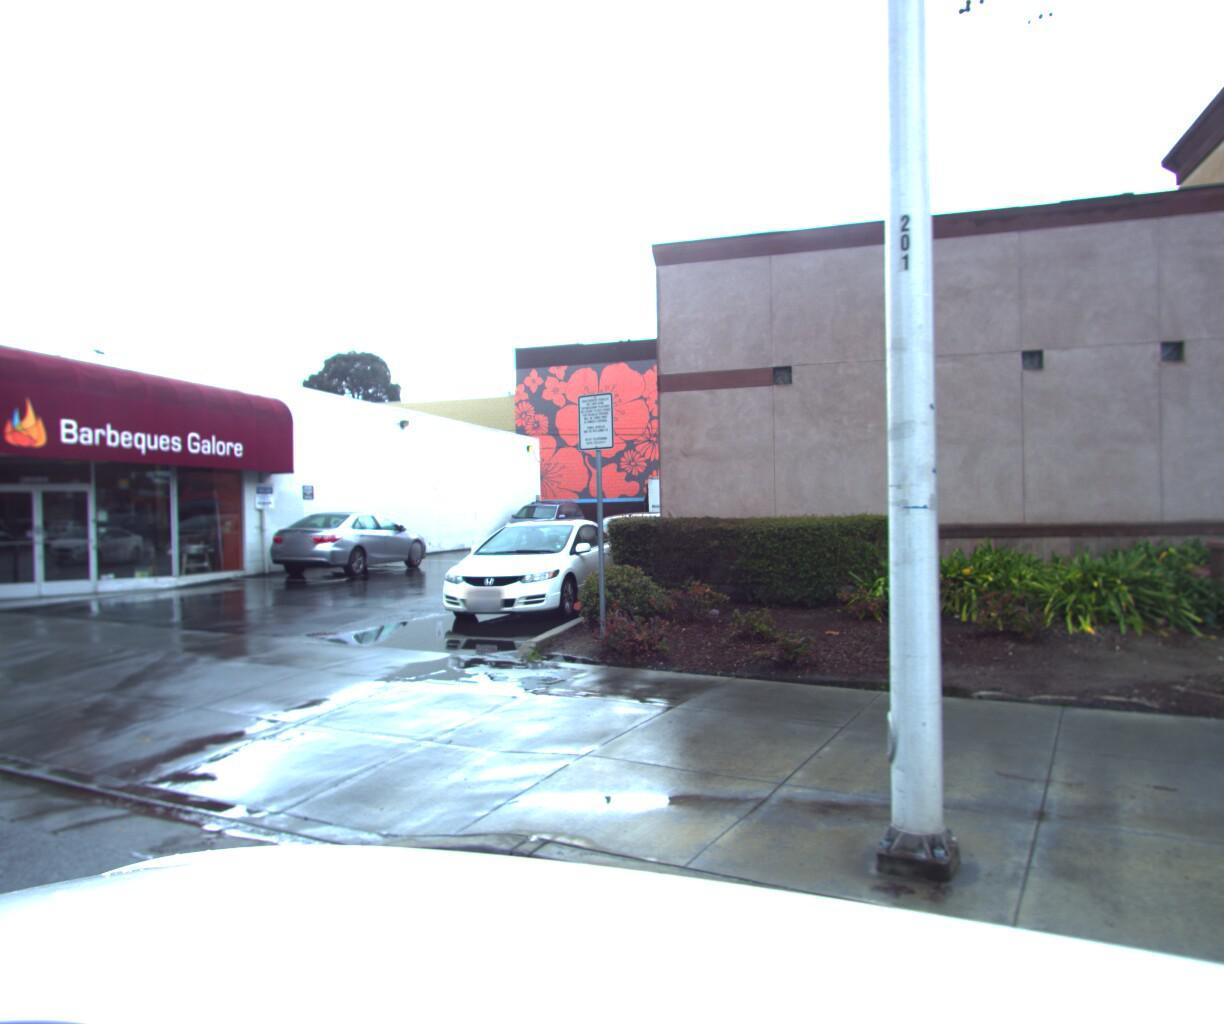car: (416, 513, 635, 629), (258, 513, 433, 594)
